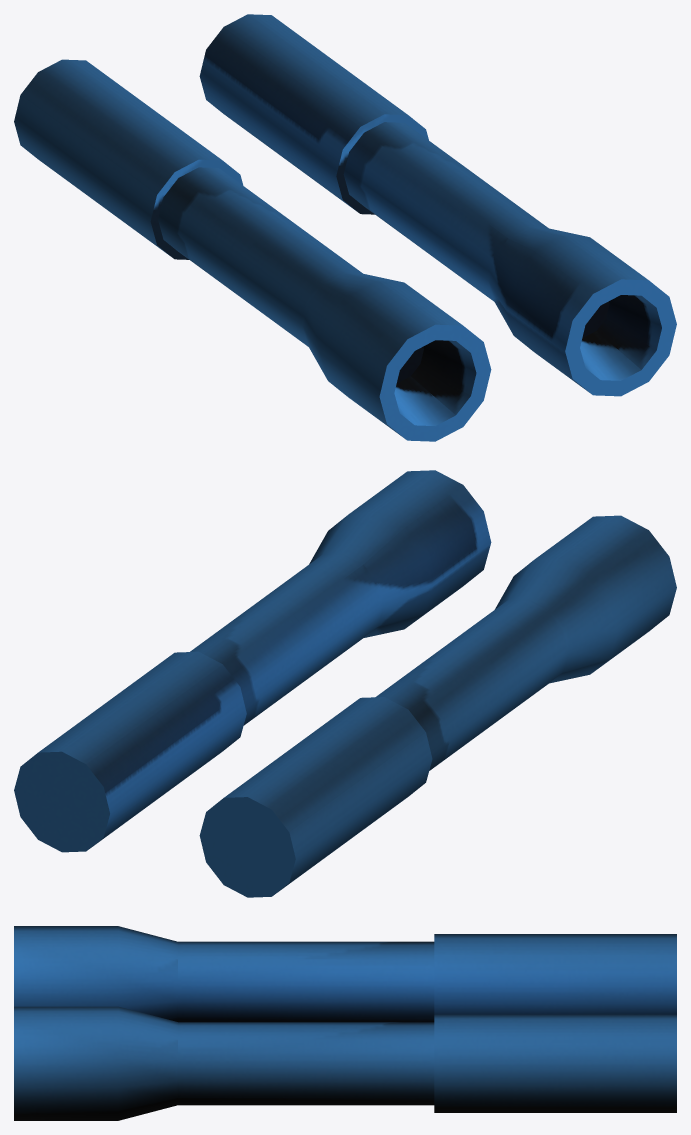
File: manualgun_barrels.obj
The picture shows the model from 3 angles, top to bottom: view 1: azimuth 30°, elevation 25°; view 2: azimuth 150°, elevation 25°; view 3: azimuth 270°, elevation 25°; orthographic projection. The views are drawn at different scales.
Parts seen in each view (by area): view 1: Cylinder001; view 2: Cylinder001; view 3: Cylinder001.
Boxes of the visible parts, bbox=[...] form: Cylinder001: bbox=[14, 14, 676, 441]; Cylinder001: bbox=[14, 470, 676, 897]; Cylinder001: bbox=[14, 926, 676, 1120].
Size of the model in its own units: 8.16 by 3.07 by 17.74.
1 material, 1 textured.
